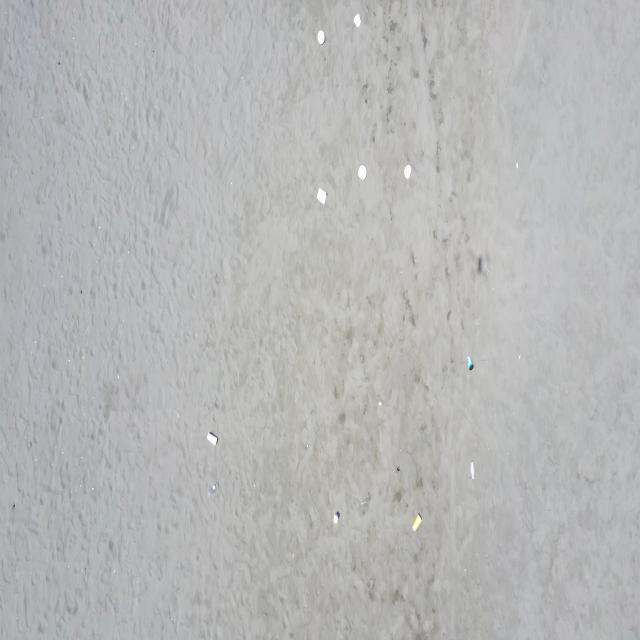take-away-containers: (316, 187, 327, 205), (358, 163, 368, 180), (317, 30, 326, 45), (404, 164, 412, 179), (353, 13, 361, 28)
takeaway-cup: (411, 513, 423, 532), (206, 431, 218, 447), (469, 459, 477, 482), (207, 482, 219, 497), (466, 355, 474, 371), (332, 514, 340, 524)
